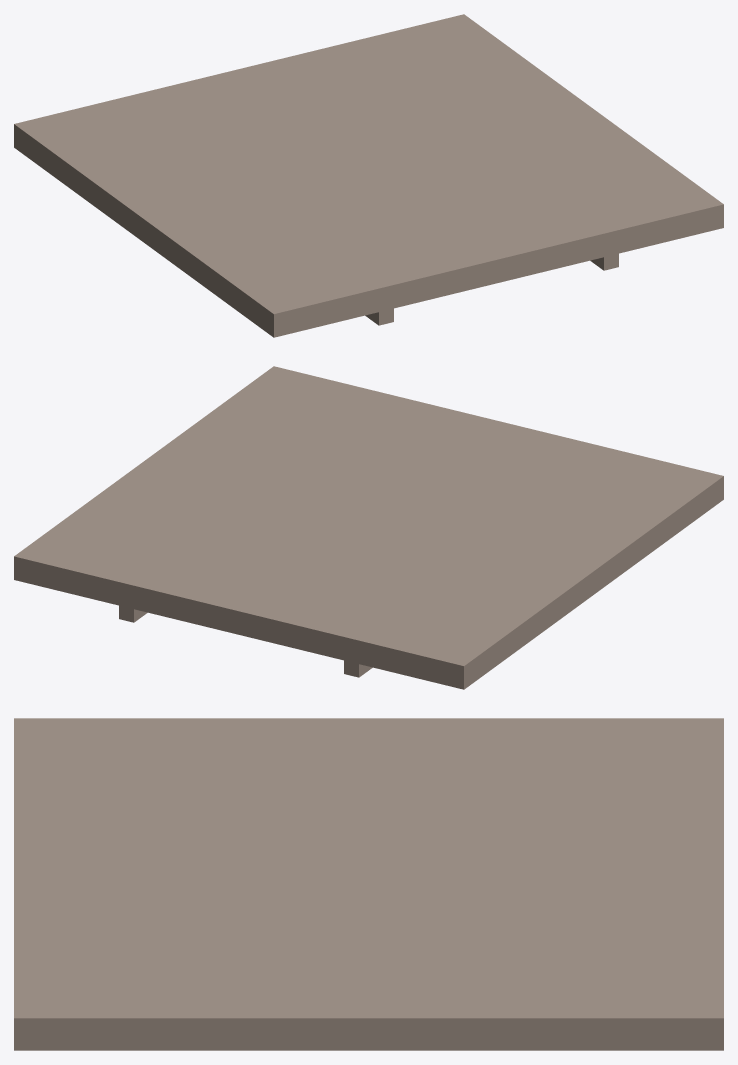
Rendered from Floor_1_2X.fbx.
3 views of the same model, one above another, from view 1: azimuth 30°, elevation 25°; view 2: azimuth 150°, elevation 25°; view 3: azimuth 270°, elevation 25° (orthographic). The views are drawn at different scales.
Visible parts, largest first — view 1: Floor_1_2X_LOD0; view 2: Floor_1_2X_LOD0; view 3: Floor_1_2X_LOD0.
Boxes of the visible parts, bbox=[...] form: Floor_1_2X_LOD0: bbox=[14, 14, 723, 337]; Floor_1_2X_LOD0: bbox=[14, 366, 723, 689]; Floor_1_2X_LOD0: bbox=[14, 718, 723, 1050].
Bounding box in the file's own units: 400 × 31.49 × 400.
